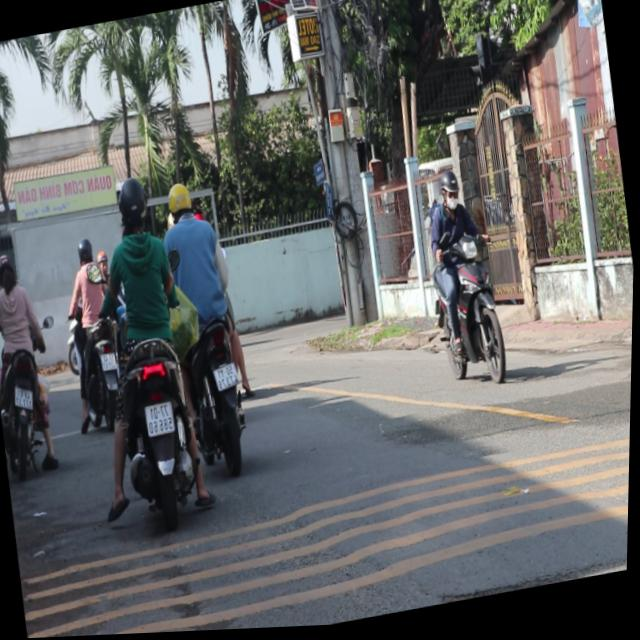helmet: (114, 173, 155, 241), (168, 181, 197, 222), (0, 252, 23, 292), (441, 173, 464, 213), (78, 234, 98, 266)
licenseplate: (71, 168, 216, 539), (152, 172, 273, 485), (414, 163, 518, 397), (0, 244, 69, 480), (56, 230, 133, 437)
nohelmet: (148, 403, 178, 437), (215, 363, 243, 393), (16, 383, 37, 412)
